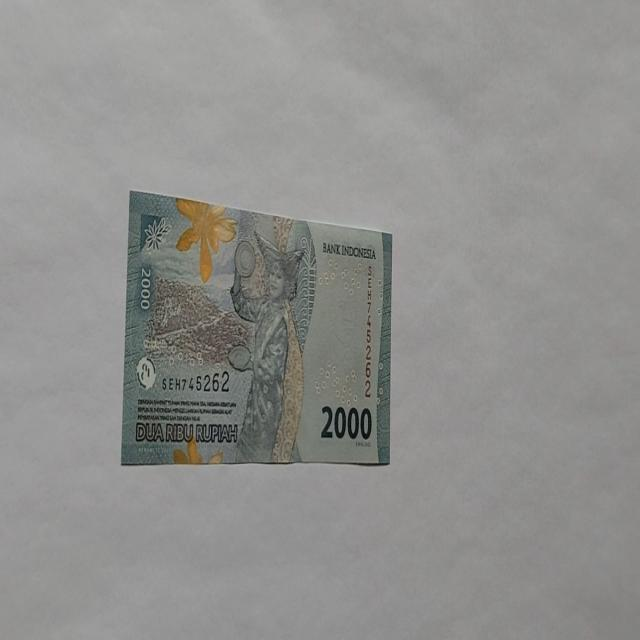dua ribu rupiah: (120, 188, 393, 468), (227, 229, 306, 463)
